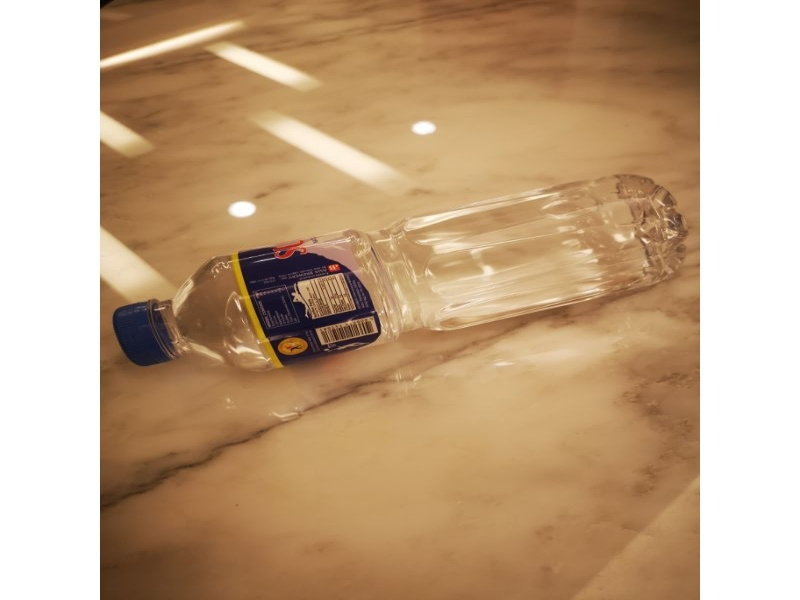PET #1: (107, 170, 691, 368)
